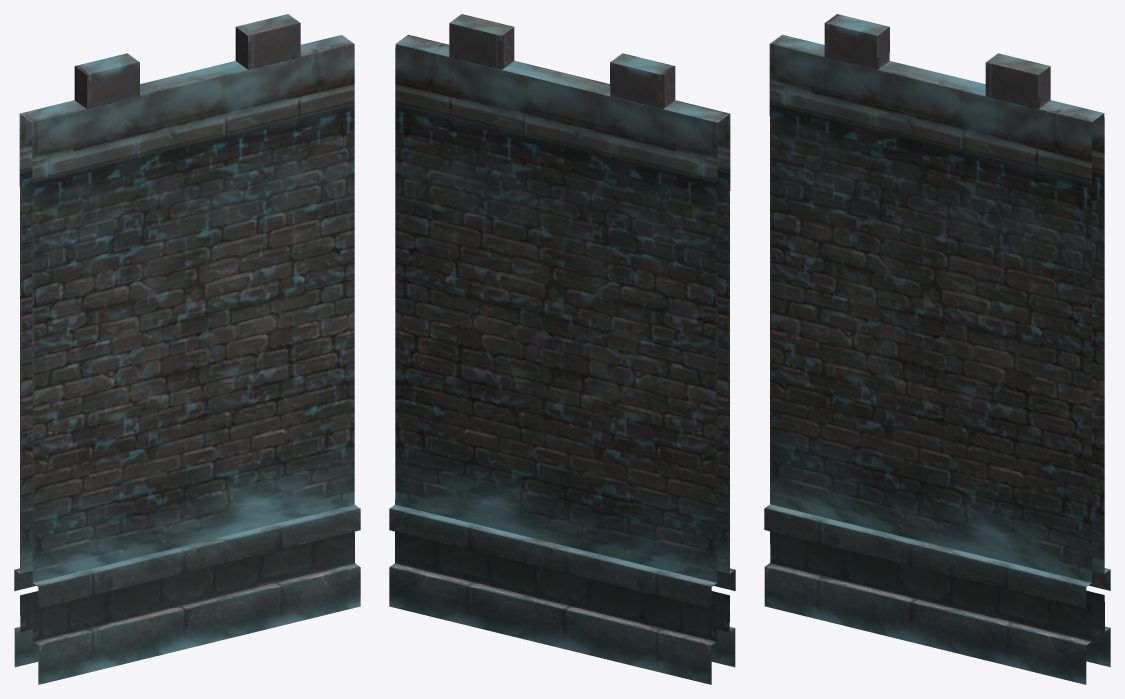
Rendered from chengqiang04.FBX.
3 renders of one model, left to right at view 1: azimuth 30°, elevation 25°; view 2: azimuth 150°, elevation 25°; view 3: azimuth 330°, elevation 25°, orthographic.
Visible parts, largest first — view 1: s7_city_new_chengqiang004; view 2: s7_city_new_chengqiang004; view 3: s7_city_new_chengqiang004.
Boxes of the visible parts, box(x1,y1,x2,y2) form: s7_city_new_chengqiang004: box(14, 14, 360, 684); s7_city_new_chengqiang004: box(389, 14, 735, 684); s7_city_new_chengqiang004: box(764, 14, 1110, 684).
Bounding box in the file's own units: 6.95 × 12.2 × 0.9028.
